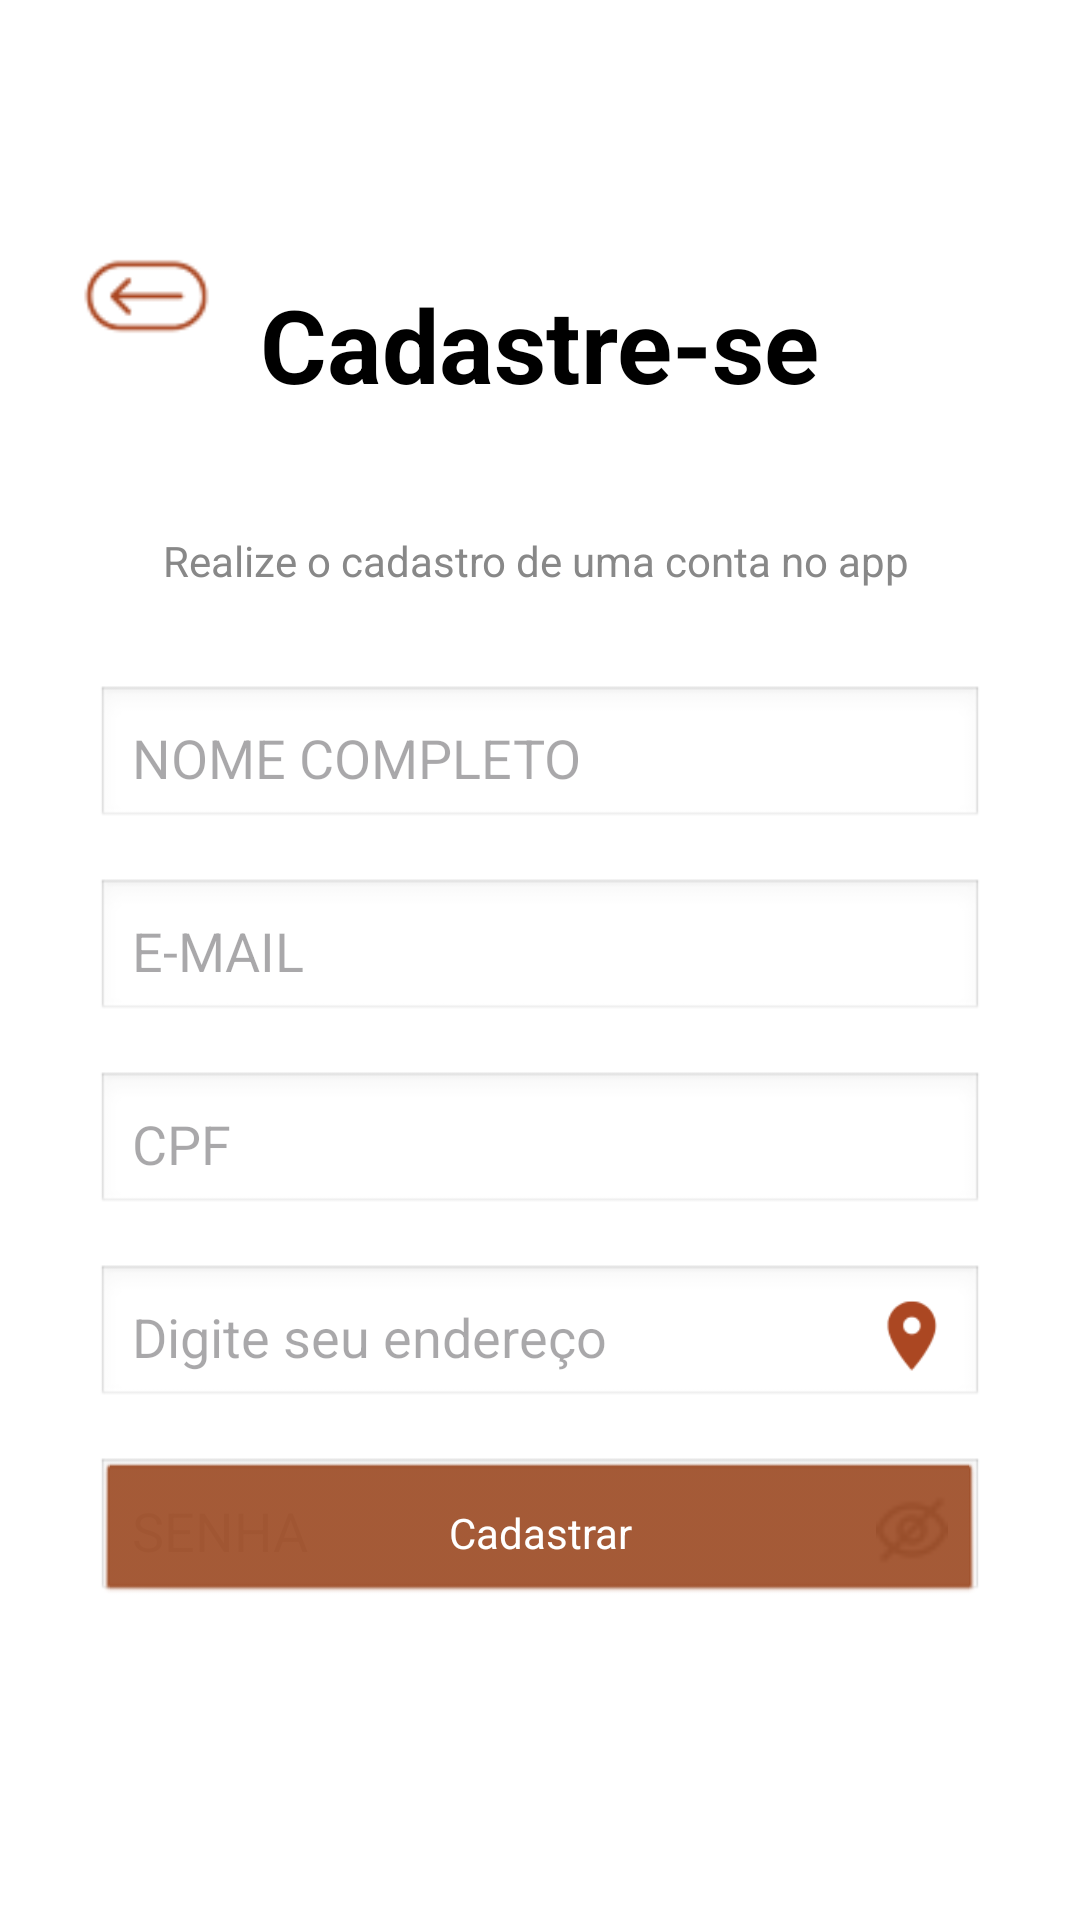

Locate icon controls on the screen. Image size 1080w x 1920h, boxes as (x1, y1, x2, y2).
back arrow: (84, 260, 209, 333)
map: (887, 1301, 937, 1371)
